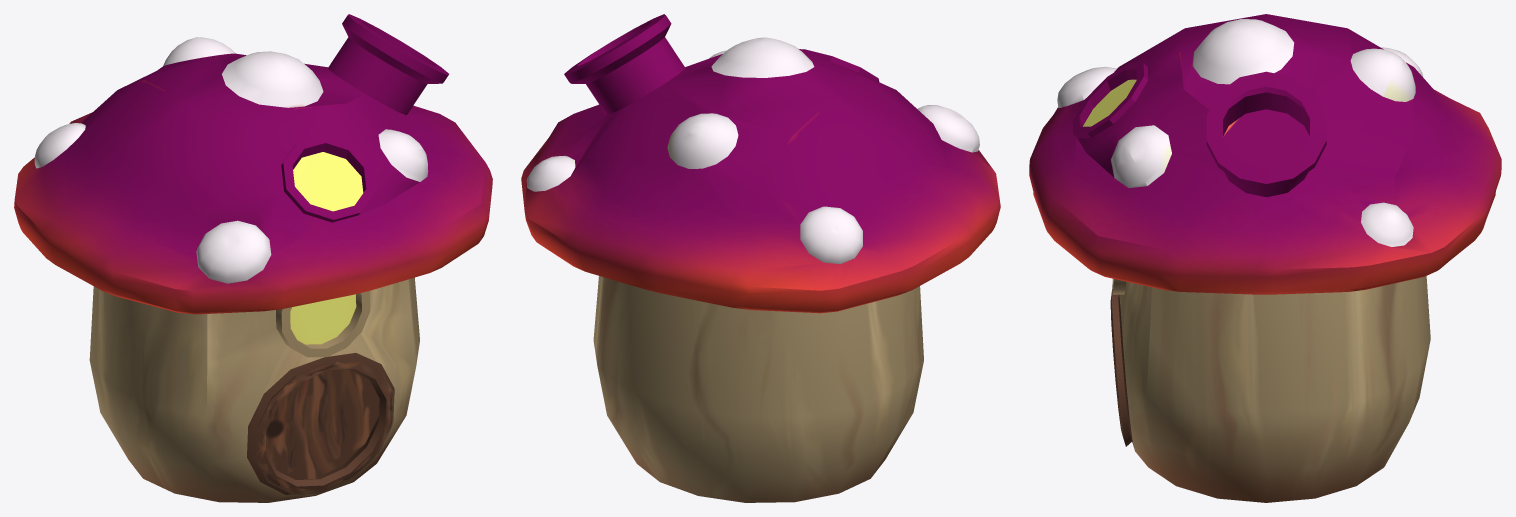
File: 3Fase_CasaHongo.fbx
3 views of the same model, side by side, from view 1: azimuth 30°, elevation 25°; view 2: azimuth 150°, elevation 25°; view 3: azimuth 270°, elevation 25° (orthographic). The views are drawn at different scales.
Visible parts, largest first — view 1: Cube.001; view 2: Cube.001; view 3: Cube.001.
Boxes of the visible parts, x1,y1,x2,y2 form: Cube.001: (14, 14, 492, 502); Cube.001: (521, 14, 1000, 502); Cube.001: (1029, 14, 1501, 502).
Bounding box in the file's own units: 257 × 240 × 241.
Materials: 1 (1 with a texture image).
